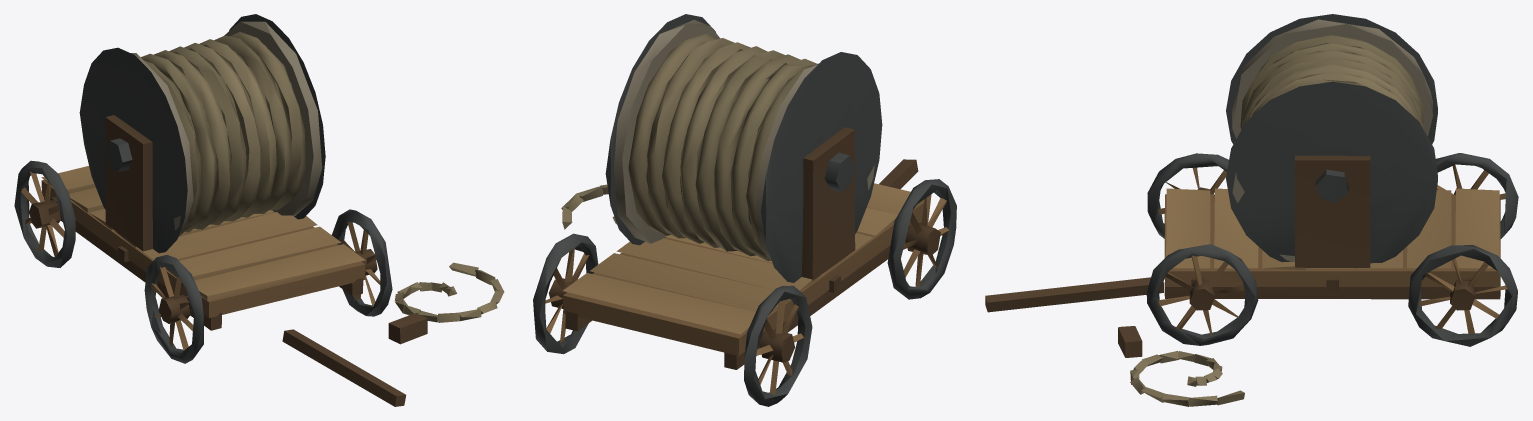
File: rope_drum_wagon_a_lod2.glb
The picture shows the model from 3 angles, left to right: view 1: azimuth 30°, elevation 25°; view 2: azimuth 150°, elevation 25°; view 3: azimuth 270°, elevation 25°; orthographic projection. The views are drawn at different scales.
Parts seen in each view (by area): view 1: Surface.001; view 2: Surface.001; view 3: Surface.001.
Part boxes in pixels (x1=…): Surface.001: x1=14, y1=14, x2=504, y2=406; Surface.001: x1=533, y1=14, x2=956, y2=406; Surface.001: x1=985, y1=14, x2=1518, y2=406.
Size of the model in its own units: 7.84 by 5.76 by 11.06.
